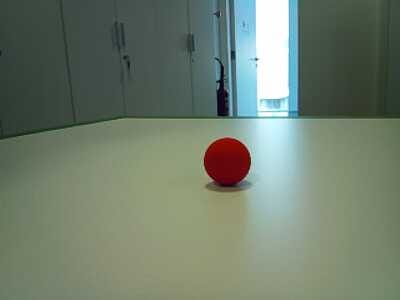bola_cerca: (203, 139, 251, 189)
